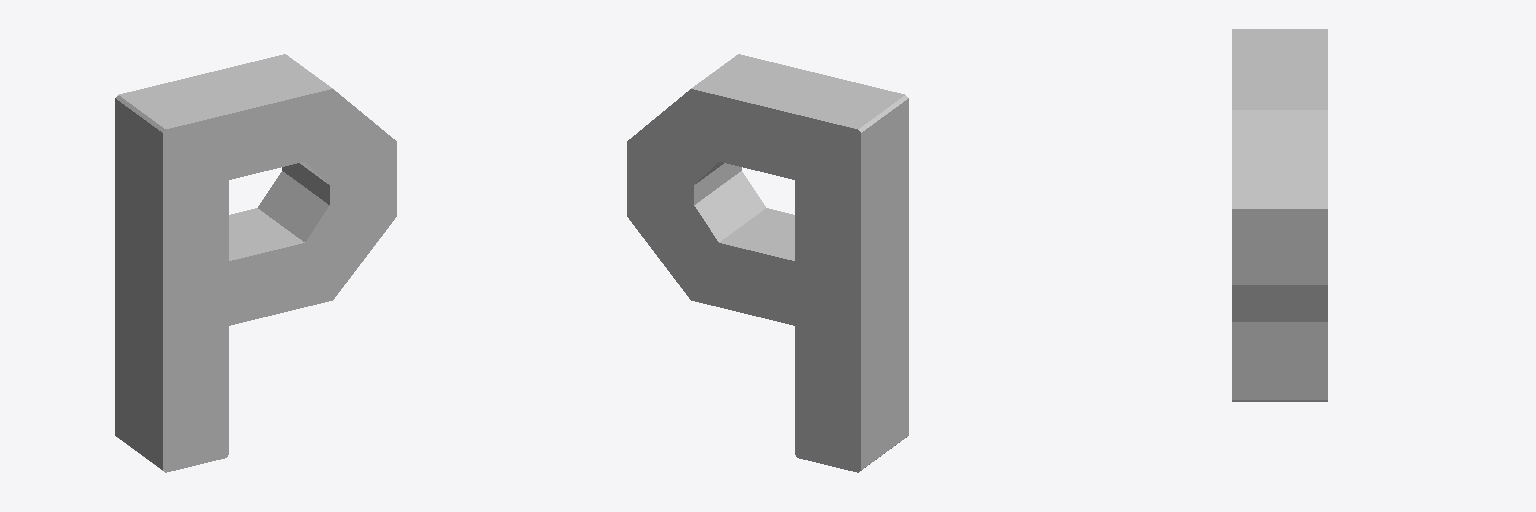
3 views of the same model, side by side, from view 1: azimuth 30°, elevation 25°; view 2: azimuth 150°, elevation 25°; view 3: azimuth 270°, elevation 25° (orthographic).
Visible parts, largest first — view 1: text: ABCDEFGHIJKLMNOPQRSTUVWXYZ[number redacted]; view 2: text: ABCDEFGHIJKLMNOPQRSTUVWXYZ[number redacted]; view 3: text: ABCDEFGHIJKLMNOPQRSTUVWXYZ[number redacted].
Boxes of the visible parts, x1,y1,x2,y2 form: text: ABCDEFGHIJKLMNOPQRSTUVWXYZ[number redacted]: [115, 54, 396, 472]; text: ABCDEFGHIJKLMNOPQRSTUVWXYZ[number redacted]: [627, 54, 908, 472]; text: ABCDEFGHIJKLMNOPQRSTUVWXYZ[number redacted]: [1232, 29, 1327, 401].
Bounding box in the file's own units: 70.92 × 99.57 × 25.